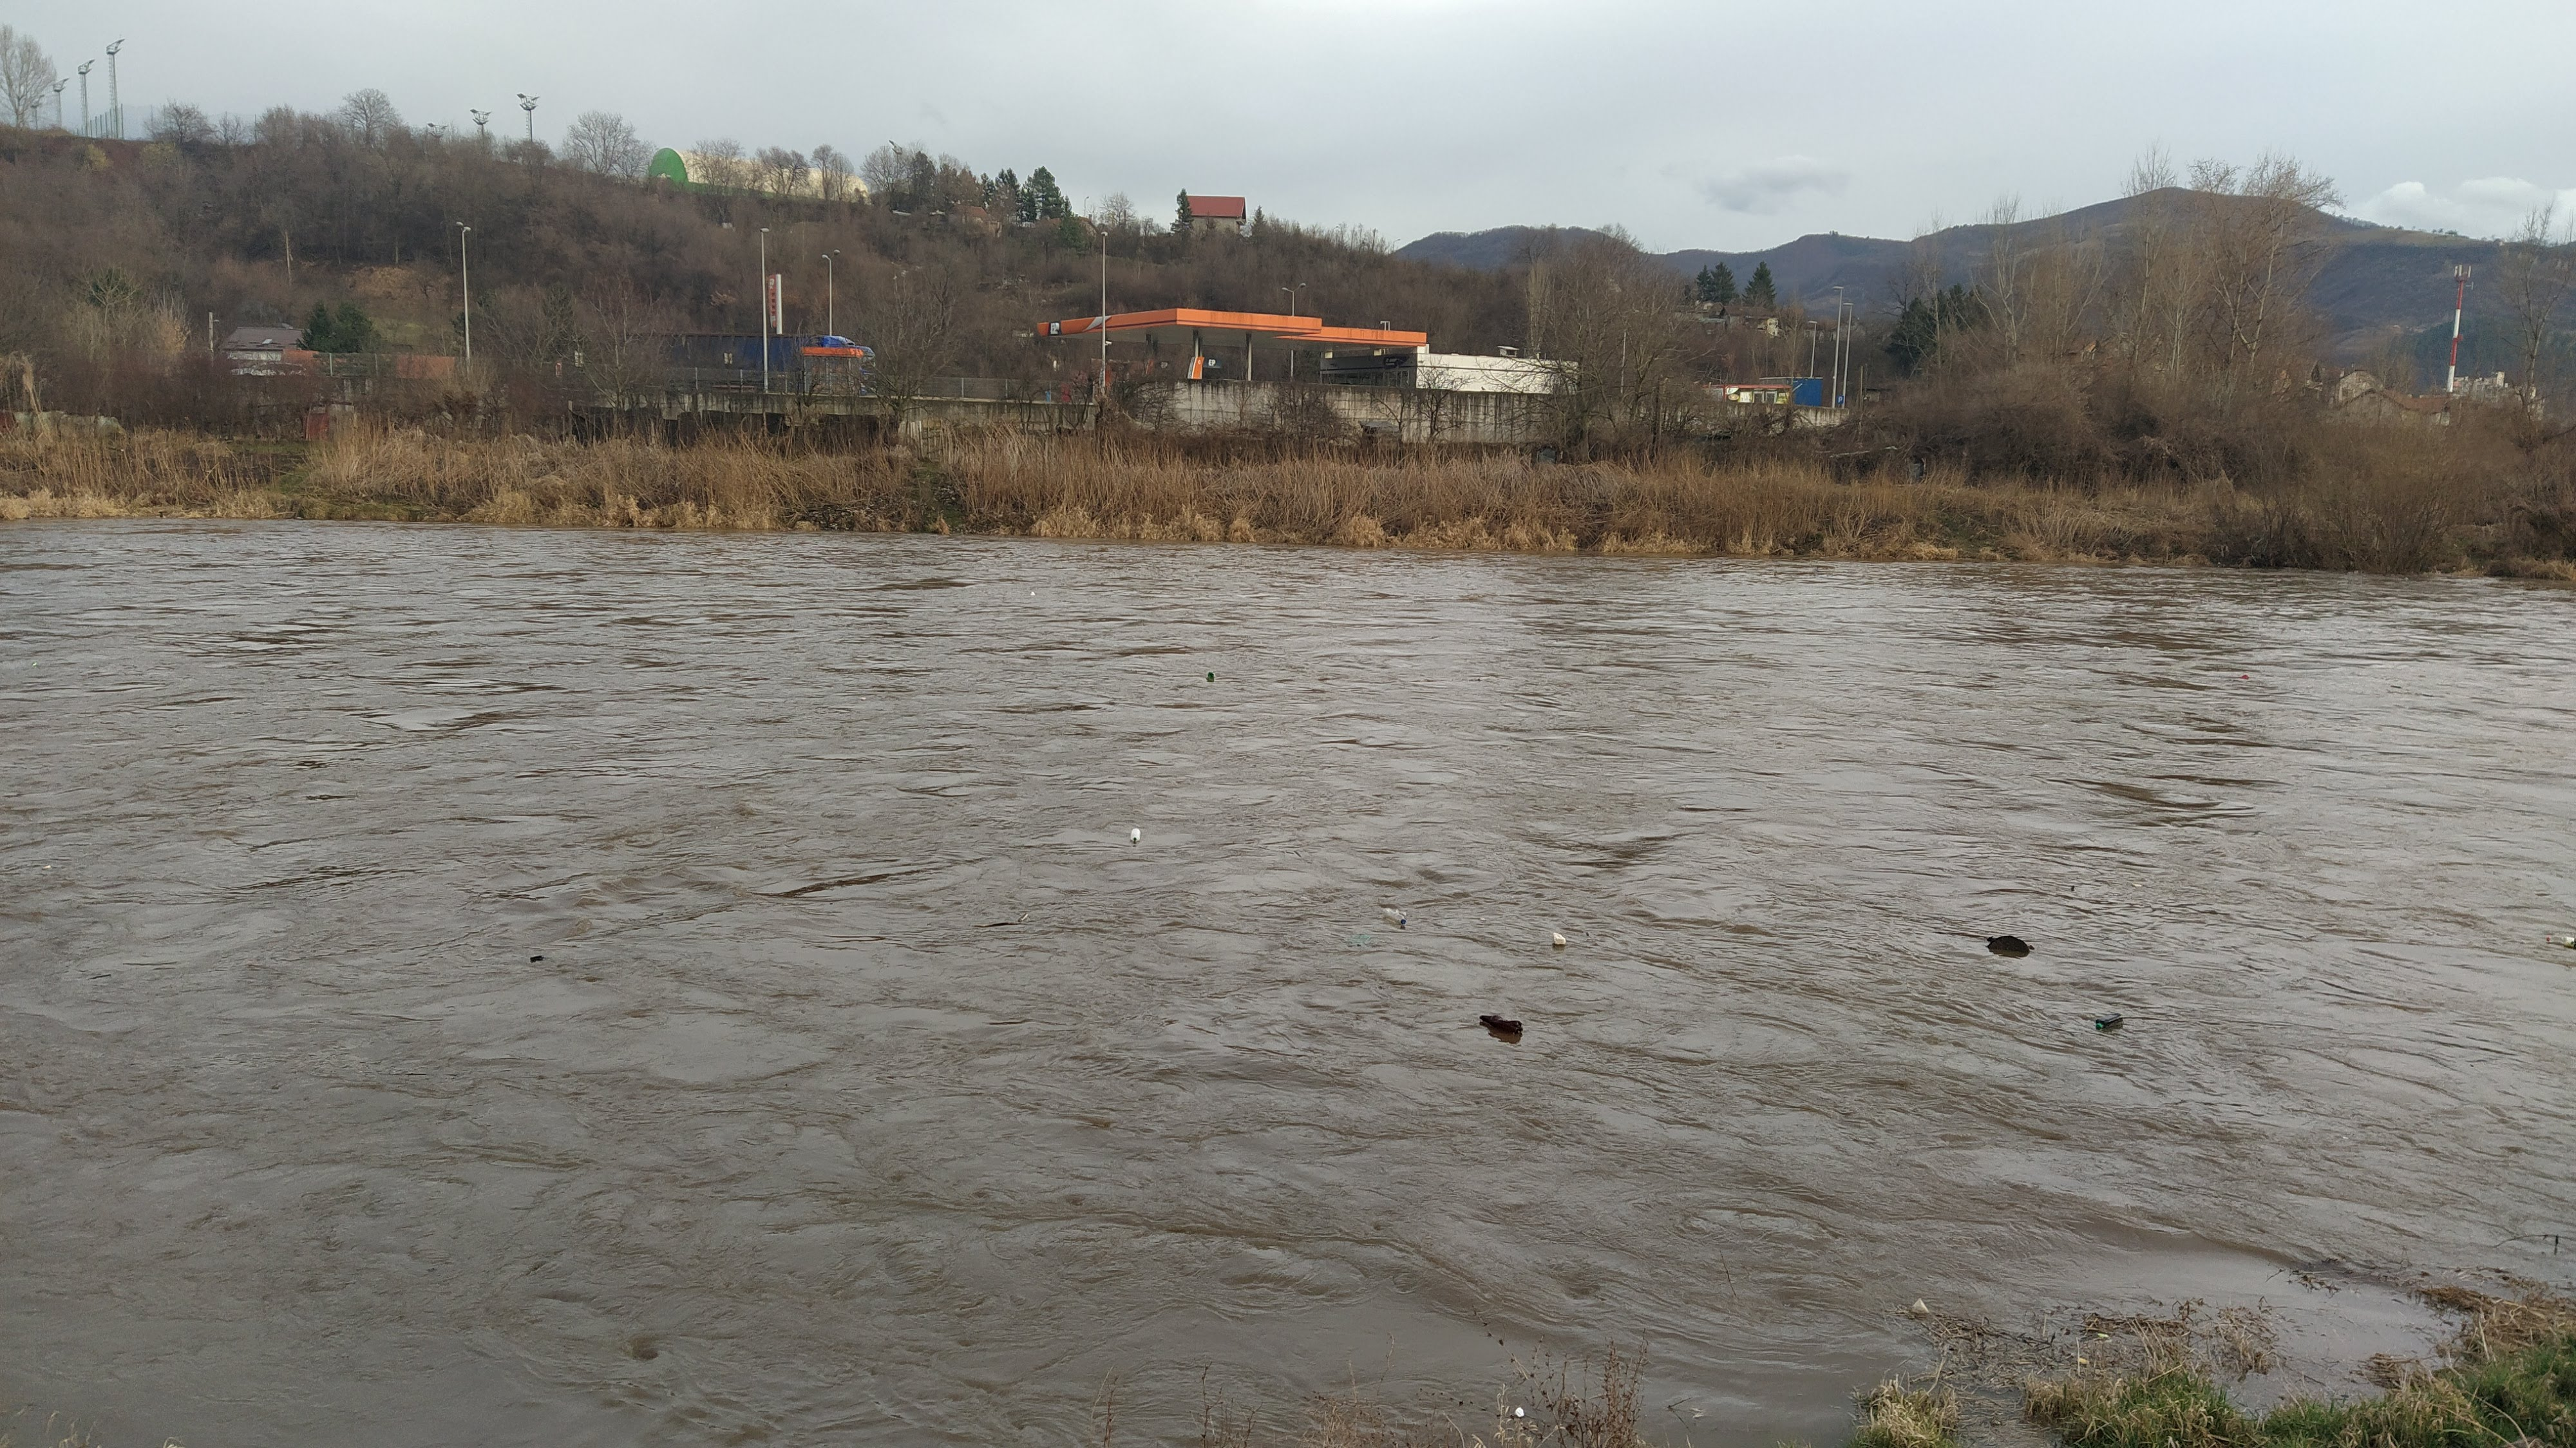Plastic Bottle: (1479, 1014, 1522, 1036), (2095, 1013, 2123, 1028), (1382, 908, 1407, 924), (2546, 936, 2576, 949), (1913, 1298, 1928, 1313), (1129, 827, 1141, 841), (531, 956, 543, 961), (1207, 673, 1214, 680), (2104, 646, 2109, 650)
